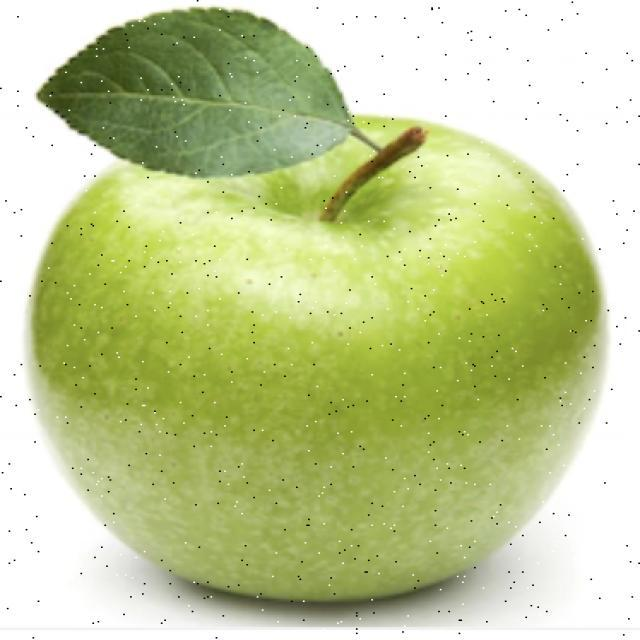Fresh Apple: (77, 130, 593, 603)
